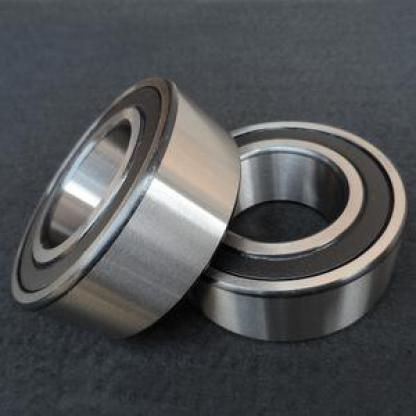FOD: (5, 74, 240, 346), (187, 115, 411, 347)
